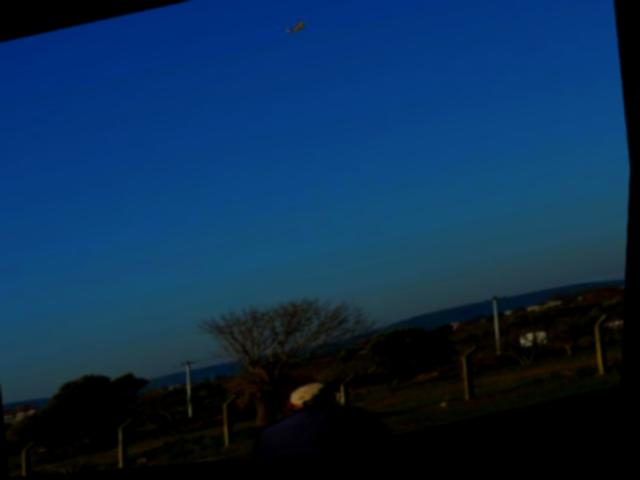iha: (284, 26, 307, 45)
